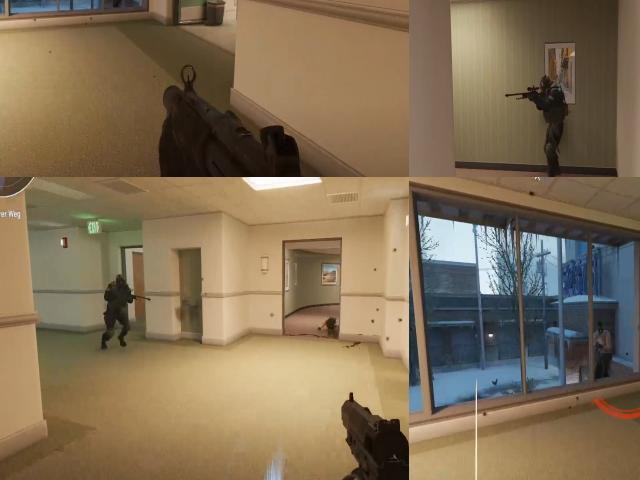CT: (538, 71, 565, 153), (103, 271, 132, 343)
CT-Head: (540, 73, 556, 94), (114, 274, 130, 293)
Dead: (313, 312, 342, 344)
T: (594, 317, 614, 364)
T-Head: (594, 320, 608, 338)
